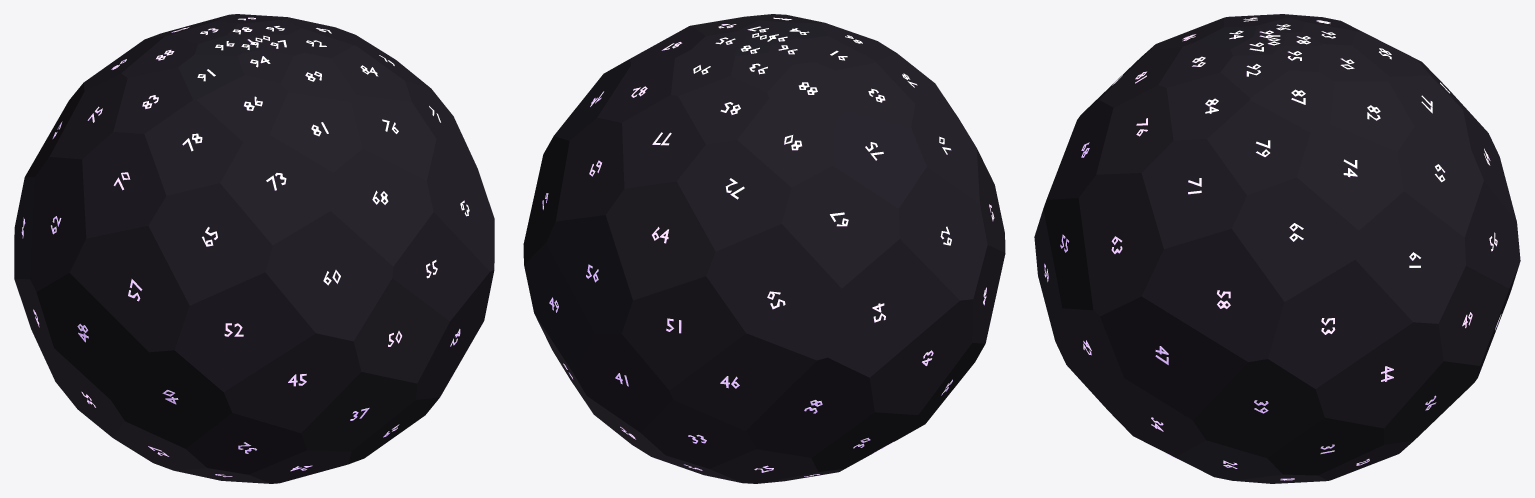
The model's file is d100_black_hole_gold.glb.
3 renders of one model, left to right at view 1: azimuth 30°, elevation 25°; view 2: azimuth 150°, elevation 25°; view 3: azimuth 270°, elevation 25°, orthographic.
Visible parts, largest first — view 1: D100_BlackHole_Gold; view 2: D100_BlackHole_Gold; view 3: D100_BlackHole_Gold.
Boxes of the visible parts, x1,y1,x2,y2 form: D100_BlackHole_Gold: (14,14,494,483); D100_BlackHole_Gold: (523,14,1005,483); D100_BlackHole_Gold: (1034,14,1520,483).
Size of the model in its own units: 5.33 by 5.01 by 5.23.
